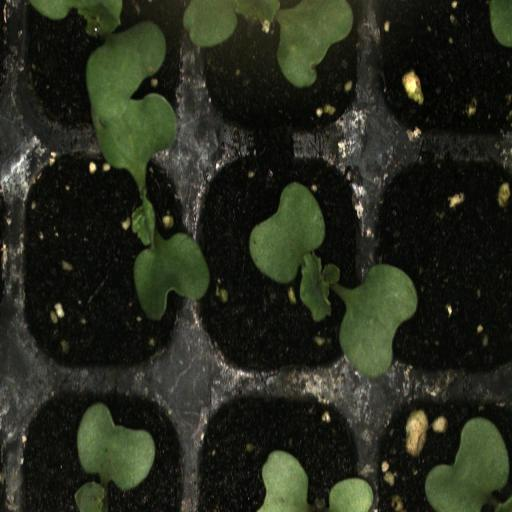noseedling: (369, 154, 512, 383)
seedling: (187, 154, 366, 382), (16, 155, 187, 381), (12, 0, 187, 155), (190, 0, 364, 155)
